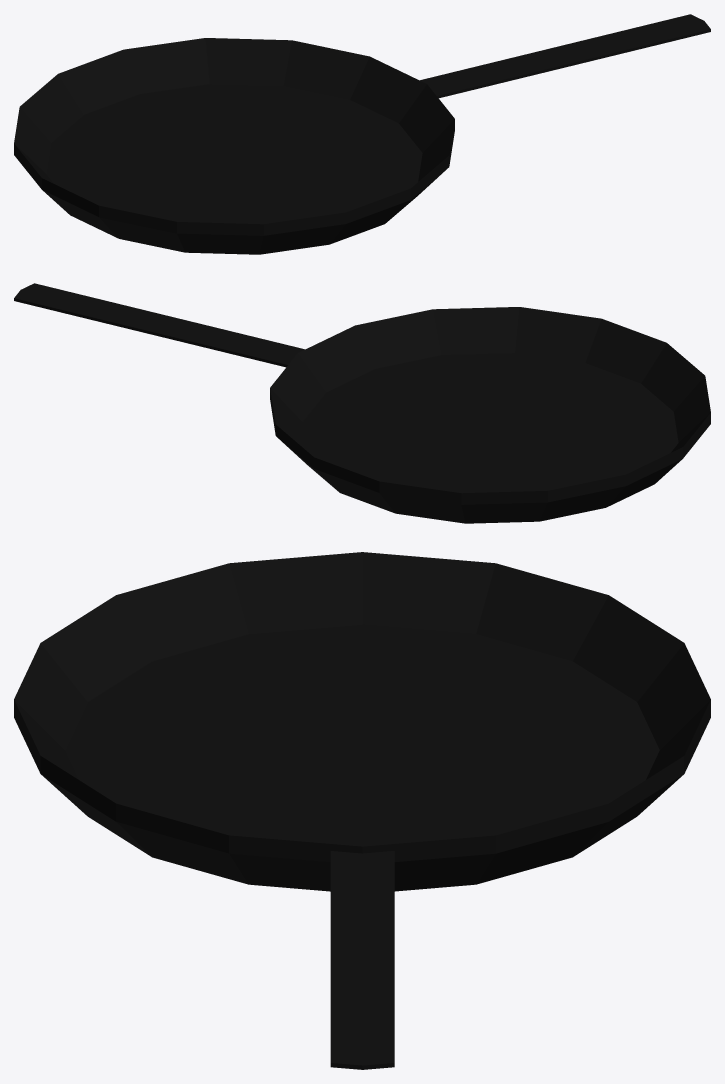
The model's file is fryingpan.fbx.
3 views of the same model, one above another, from view 1: azimuth 30°, elevation 25°; view 2: azimuth 150°, elevation 25°; view 3: azimuth 270°, elevation 25° (orthographic). The views are drawn at different scales.
Parts seen in each view (by area): view 1: 円柱; view 2: 円柱; view 3: 円柱.
Boxes of the visible parts, x1,y1,x2,y2 form: 円柱: [14, 14, 710, 254]; 円柱: [14, 283, 710, 523]; 円柱: [14, 552, 710, 1069].
Bounding box in the file's own units: 344 × 21.93 × 200.
1 material, 1 textured.
